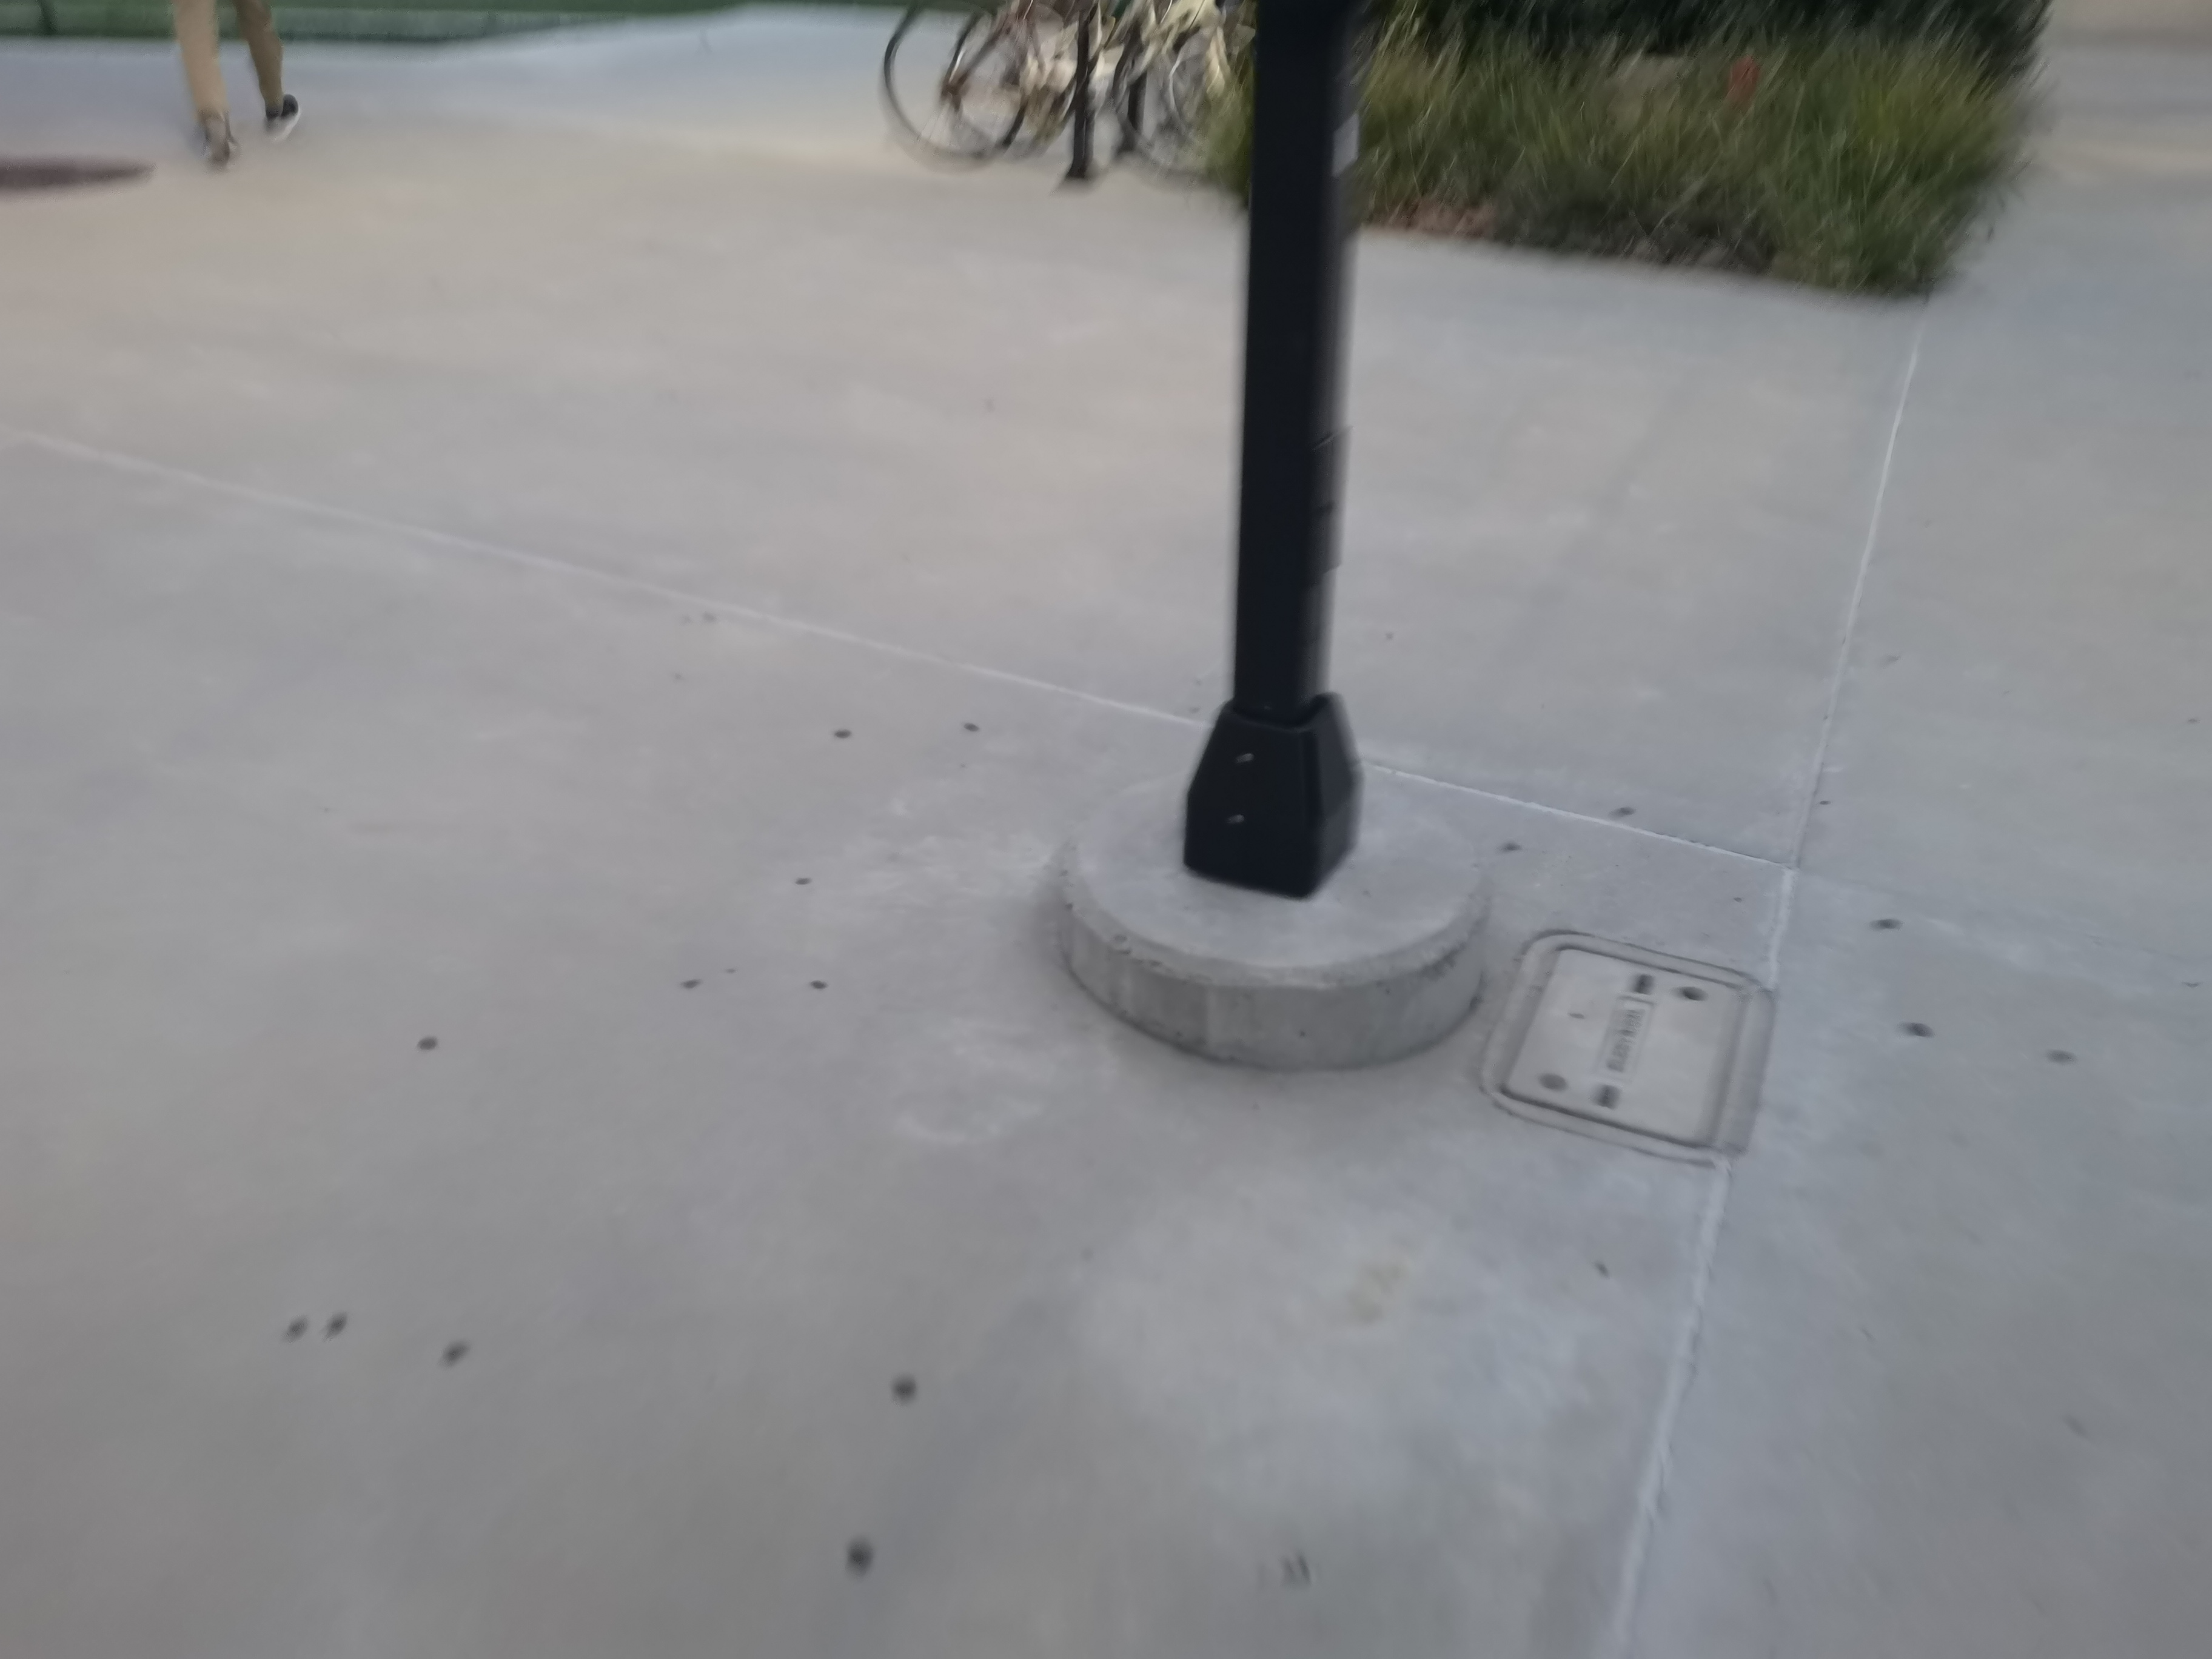Edge: (1177, 178, 1916, 314)
Obstacle: (1047, 30, 1489, 1096), (857, 23, 1364, 178)
